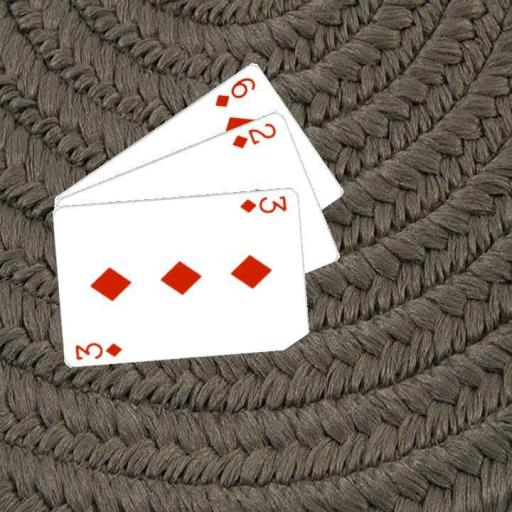card-corner: (212, 73, 257, 109), (229, 119, 278, 150), (72, 338, 124, 362), (237, 192, 289, 214)
